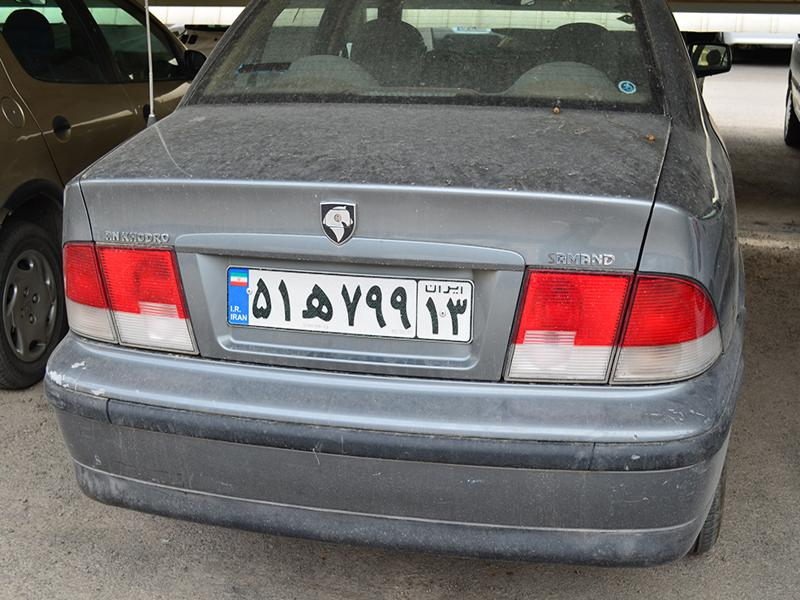Plate: (207, 259, 485, 361)
